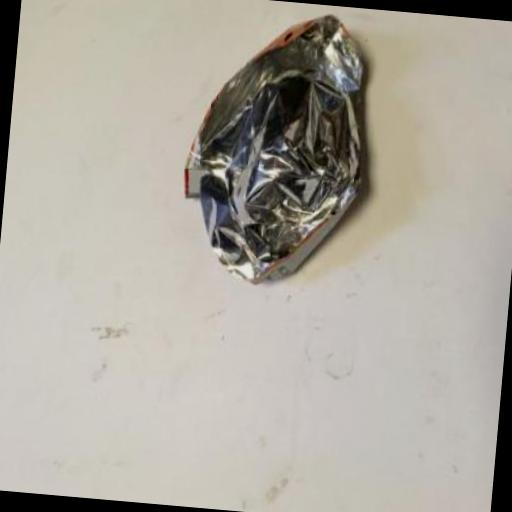plastic: (176, 4, 376, 291)
